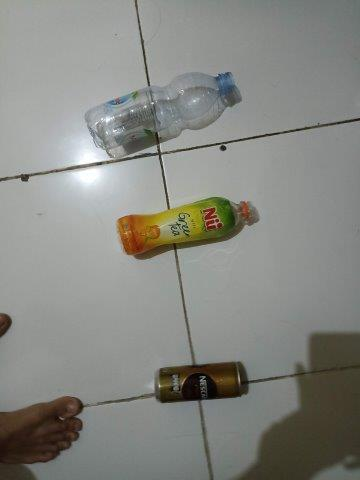botolplastik: (85, 72, 236, 148), (116, 197, 254, 255)
kaleng: (154, 361, 242, 403)
